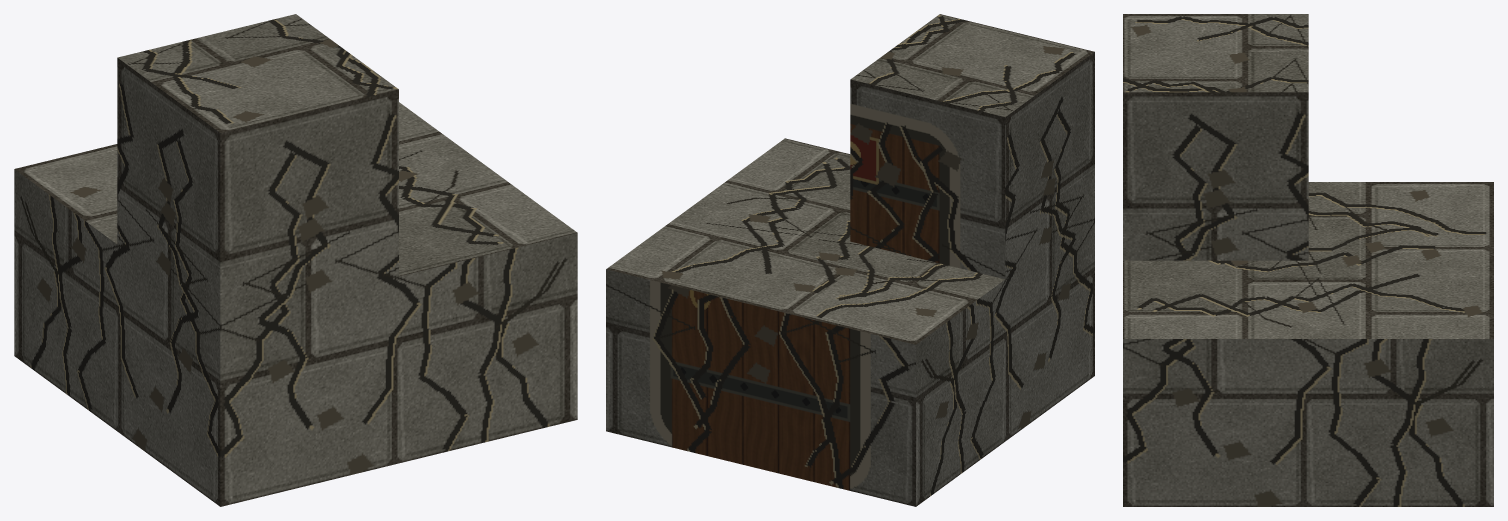
File: magazine_z3.glb
3 views of the same model, side by side, from view 1: azimuth 30°, elevation 25°; view 2: azimuth 150°, elevation 25°; view 3: azimuth 270°, elevation 25° (orthographic). The views are drawn at different scales.
Visible parts, largest first — view 1: magazine_z3; view 2: magazine_z3; view 3: magazine_z3.
Part boxes in pixels (x1,y1,x2,y2): magazine_z3: [14, 14, 577, 506]; magazine_z3: [606, 14, 1094, 506]; magazine_z3: [1123, 14, 1493, 506].
Bounding box in the file's own units: 1 × 1 × 1.
1 material, 1 textured.
